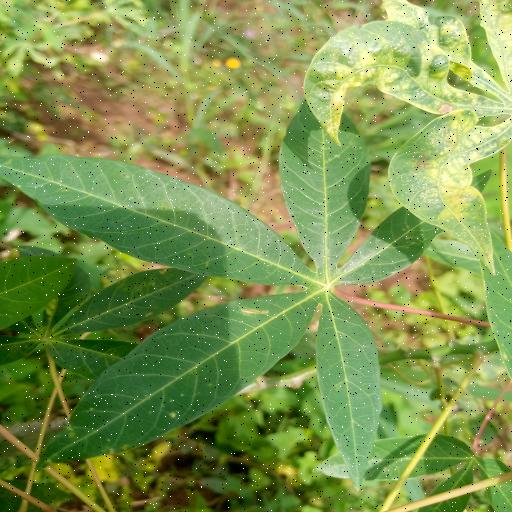Cassava_Healthy: (2, 101, 424, 496)
Cassava_Mosaic: (305, 0, 512, 272)
